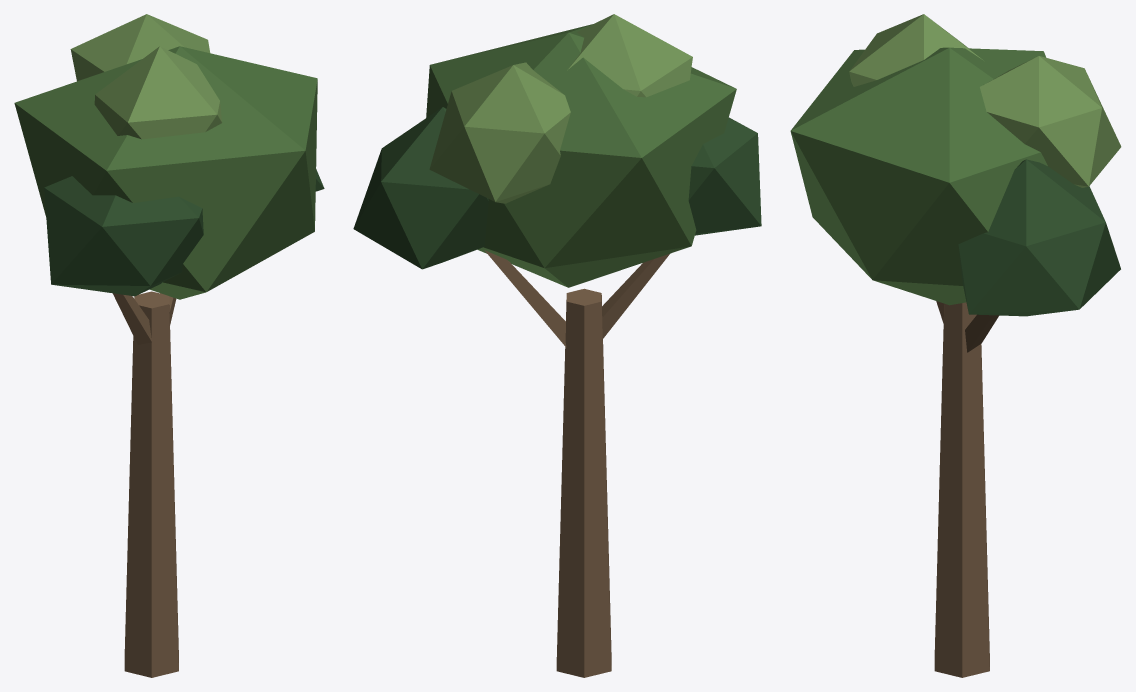
File: tree_broadleaf_01_lod1.glb
3 renders of one model, left to right at view 1: azimuth 30°, elevation 25°; view 2: azimuth 150°, elevation 25°; view 3: azimuth 270°, elevation 25°, orthographic.
Visible parts, largest first — view 1: tree_broadleaf_01_lod1; view 2: tree_broadleaf_01_lod1; view 3: tree_broadleaf_01_lod1.
Boxes of the visible parts, bbox=[...] form: tree_broadleaf_01_lod1: bbox=[14, 14, 324, 677]; tree_broadleaf_01_lod1: bbox=[353, 14, 761, 677]; tree_broadleaf_01_lod1: bbox=[790, 14, 1121, 677].
Size of what is drawn, in the model's own units: 2.89 by 5.57 by 2.59.
Materials: 1 (1 with a texture image).
